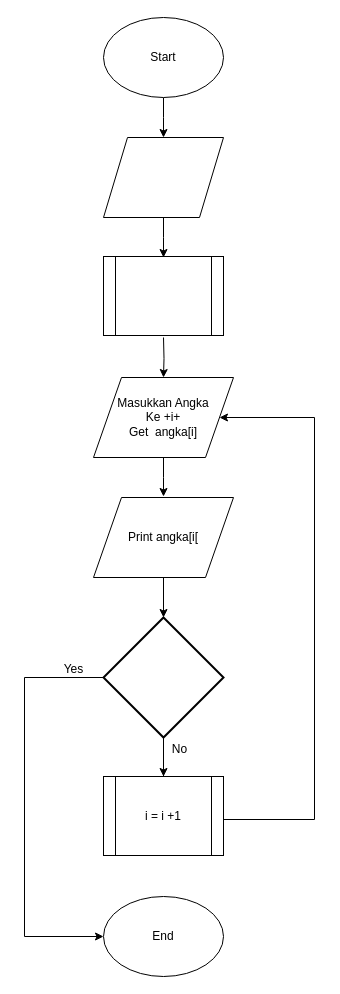
This 340x994 diagram has some shape labels left out. Each missing label, with the centre of its shape:
i = 1: point (163, 296)
i >= data: point (163, 677)
Input Banyak Angka Get data: point (163, 177)
